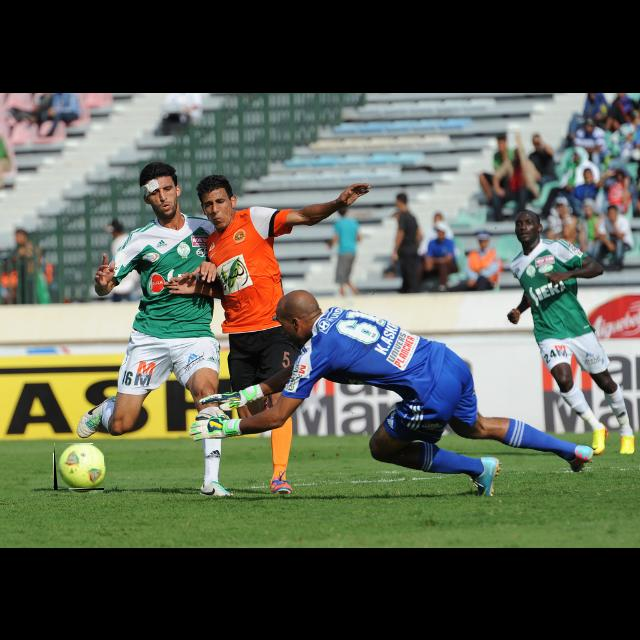Football: (54, 444, 104, 490)
